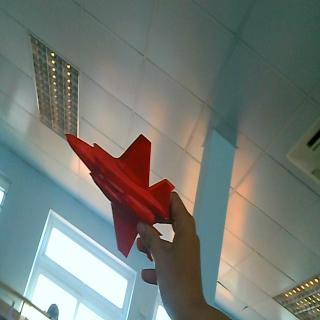Jet: (64, 128, 175, 258)
